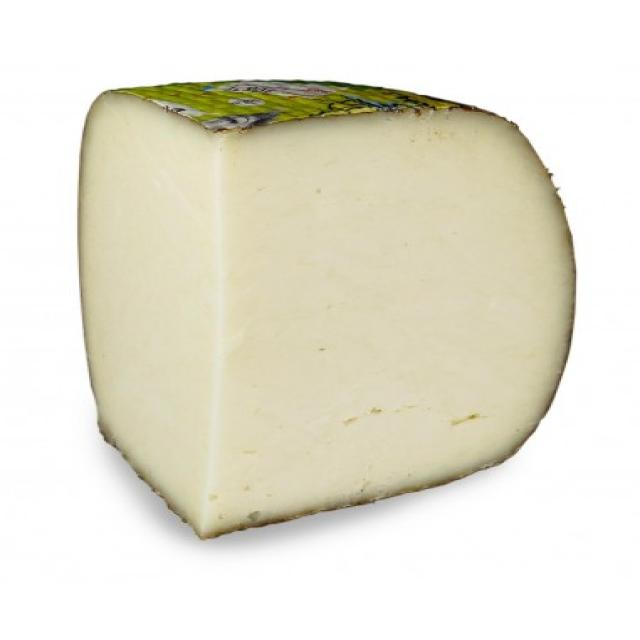Cheese: (80, 73, 587, 529)
